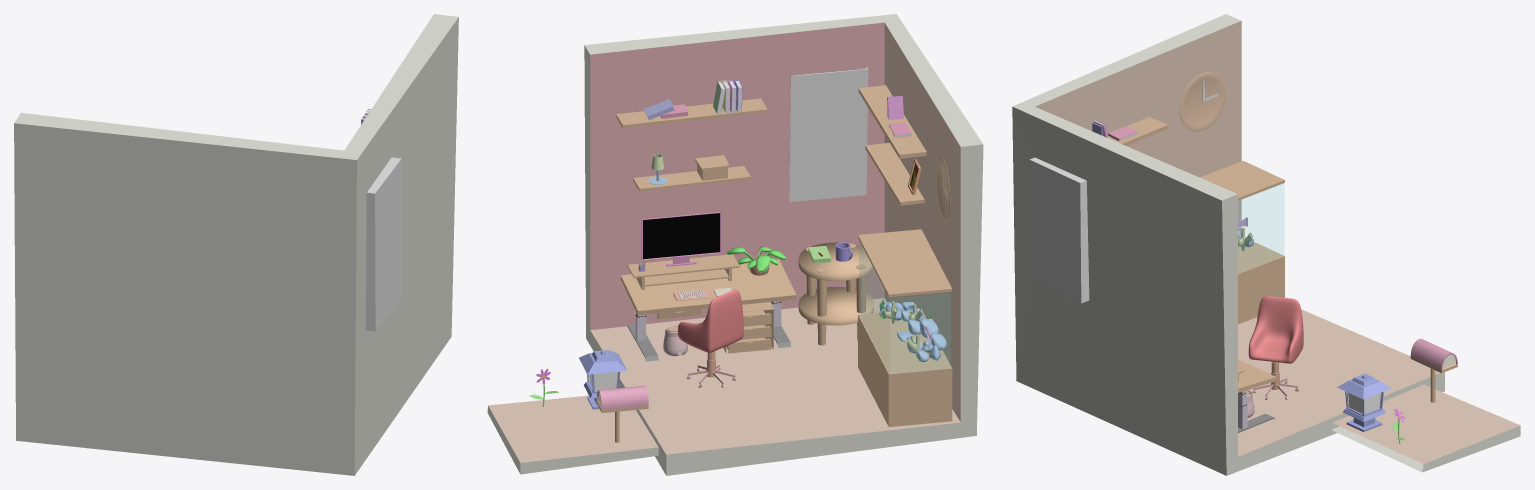
File: FinalRoom.glb
3 renders of one model, left to right at view 1: azimuth 30°, elevation 25°; view 2: azimuth 150°, elevation 25°; view 3: azimuth 270°, elevation 25°, orthographic. The views are drawn at different scales.
Parts seen in each view (by area): view 1: Cube.004, Cube.103; view 2: Cube.004, Cube.118, Cube.103, Cube.126, Cube.119, Table, Screen, Plane.003, Table.001, Cylinder.011, Cube.006, Cylinder.010 (+13 smaller); view 3: Cube.004, Cube.126, Cube.103, Cube.118, Cube.119, Plane.003, Cylinder.014, Plane.005, Cylinder.015, Table, Cube.006.
Part boxes in pixels (x1,y1,x2,y2): Cube.004: [14, 14, 458, 475]; Cube.103: [366, 157, 401, 331]; Cube.004: [584, 14, 983, 475]; Cube.118: [858, 229, 952, 426]; Cube.103: [789, 67, 868, 201]; Cube.126: [487, 395, 658, 474]; Cube.119: [859, 241, 950, 373]; Table: [620, 259, 796, 319]; Screen: [643, 213, 719, 259]; Plane.003: [677, 289, 743, 352]; Table.001: [627, 254, 739, 289]; Cylinder.011: [798, 286, 873, 325]; Cube.006: [858, 85, 926, 158]; Cylinder.010: [798, 242, 873, 281]; Cube.004: [1012, 14, 1444, 475]; Cube.126: [1331, 384, 1520, 472]; Cube.103: [1029, 157, 1089, 303]; Cube.118: [1200, 160, 1284, 324]; Cube.119: [1238, 184, 1283, 272]; Plane.003: [1248, 296, 1303, 363]; Cylinder.014: [1179, 72, 1226, 131]; Plane.005: [1337, 373, 1391, 431]; Cylinder.015: [1410, 338, 1457, 373]; Table: [1238, 359, 1276, 392]; Cube.006: [1107, 117, 1167, 145].
Size of the model in its own units: 15.97 by 11.29 by 18.37.
Materials: 53 (1 with a texture image).
